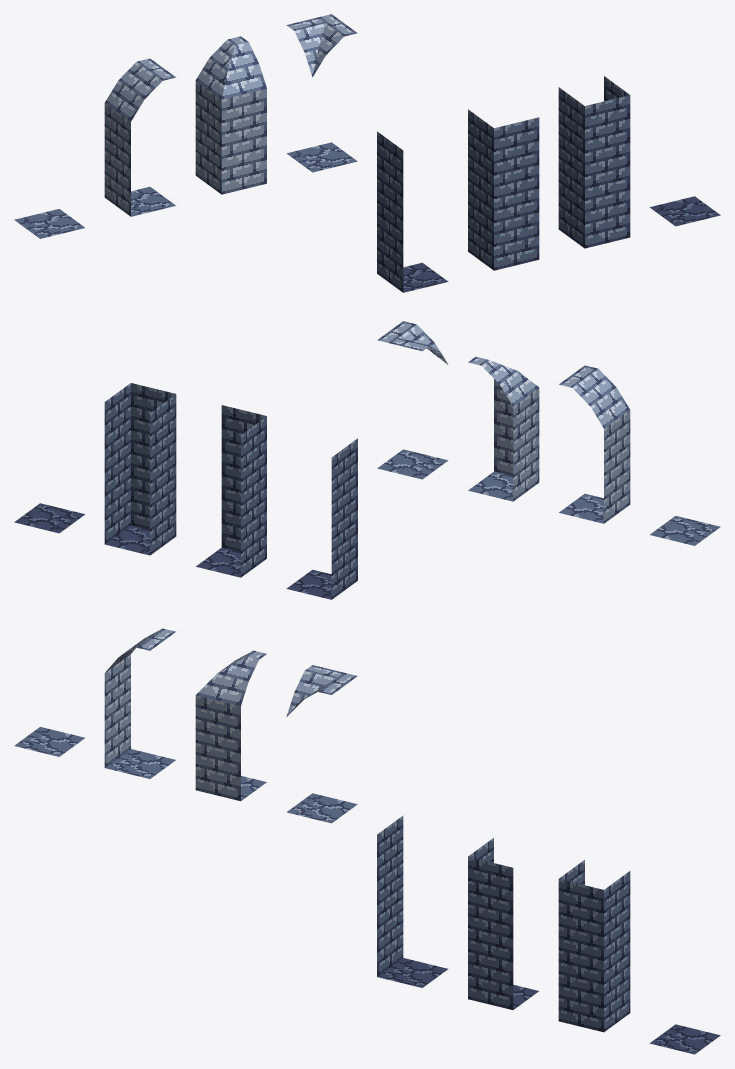
The model's file is walls_tiles.glb.
3 views of the same model, one above another, from view 1: azimuth 30°, elevation 25°; view 2: azimuth 150°, elevation 25°; view 3: azimuth 330°, elevation 25° (orthographic).
Visible parts, largest first — view 1: Hole-UTurn-col, Hole-Corner-col, Wall-Corner-col, Wall-Side-col, Hole-Side-col, Wall-Outer-col, Ground-col, Hole-Ground-col; view 2: Hole-UTurn-col, Hole-Corner-col, Wall-Corner-col, Wall-Side-col, Hole-Side-col, Wall-Outer-col, Ground-col, Hole-Ground-col; view 3: Hole-UTurn-col, Hole-Corner-col, Wall-Corner-col, Hole-Side-col, Wall-Side-col, Wall-Outer-col, Hole-Ground-col, Ground-col.
Part boxes in pixels (left/top/right/bottom): Hole-UTurn-col: left=558, top=76, right=630, bottom=248; Hole-Corner-col: left=468, top=109, right=539, bottom=270; Wall-Corner-col: left=195, top=36, right=266, bottom=194; Wall-Side-col: left=104, top=58, right=175, bottom=216; Hole-Side-col: left=377, top=131, right=448, bottom=292; Wall-Outer-col: left=286, top=14, right=357, bottom=172; Ground-col: left=14, top=209, right=84, bottom=238; Hole-Ground-col: left=650, top=196, right=720, bottom=226; Hole-UTurn-col: left=104, top=383, right=176, bottom=555; Hole-Corner-col: left=196, top=405, right=266, bottom=577; Wall-Corner-col: left=468, top=356, right=539, bottom=501; Wall-Side-col: left=559, top=365, right=630, bottom=523; Hole-Side-col: left=286, top=438, right=357, bottom=599; Wall-Outer-col: left=377, top=321, right=448, bottom=479; Ground-col: left=650, top=516, right=720, bottom=545; Hole-Ground-col: left=14, top=503, right=84, bottom=533; Hole-UTurn-col: left=558, top=860, right=630, bottom=1032; Hole-Corner-col: left=468, top=838, right=538, bottom=1009; Wall-Corner-col: left=195, top=650, right=266, bottom=801; Hole-Side-col: left=377, top=815, right=447, bottom=987; Wall-Side-col: left=104, top=628, right=175, bottom=778; Wall-Outer-col: left=286, top=665, right=357, bottom=823; Hole-Ground-col: left=649, top=1024, right=720, bottom=1054; Ground-col: left=14, top=727, right=85, bottom=756.
Size of the model in its own units: 15 by 5.7 by 1.
Materials: 1 (1 with a texture image).
